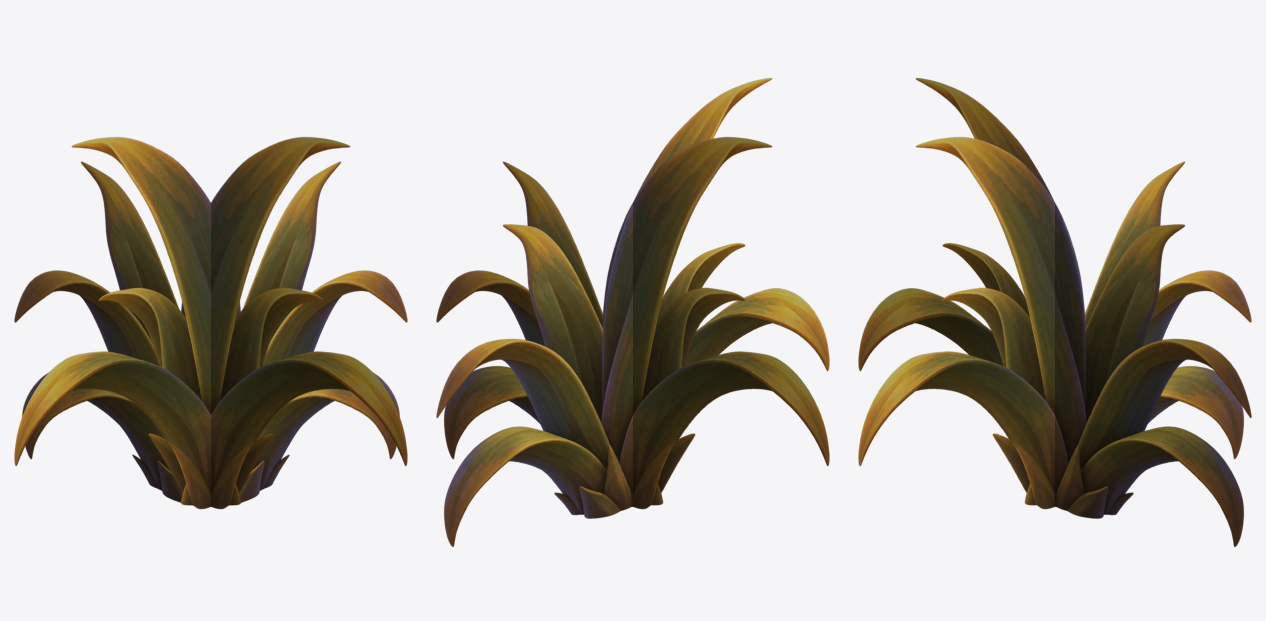
File: v4-forest-road-scatter-grass.glb
3 renders of one model, left to right at view 1: azimuth 30°, elevation 25°; view 2: azimuth 150°, elevation 25°; view 3: azimuth 270°, elevation 25°, orthographic.
Visible parts, largest first — view 1: v4-forest-road-scatter-grass; view 2: v4-forest-road-scatter-grass; view 3: v4-forest-road-scatter-grass.
Part boxes in pixels (x1,y1,x2,y2): v4-forest-road-scatter-grass: (14, 137, 407, 509); v4-forest-road-scatter-grass: (436, 78, 829, 546); v4-forest-road-scatter-grass: (858, 78, 1251, 546).
Size of the model in its own units: 0.5142 by 0.5 by 0.4453.
Materials: 1 (1 with a texture image).
